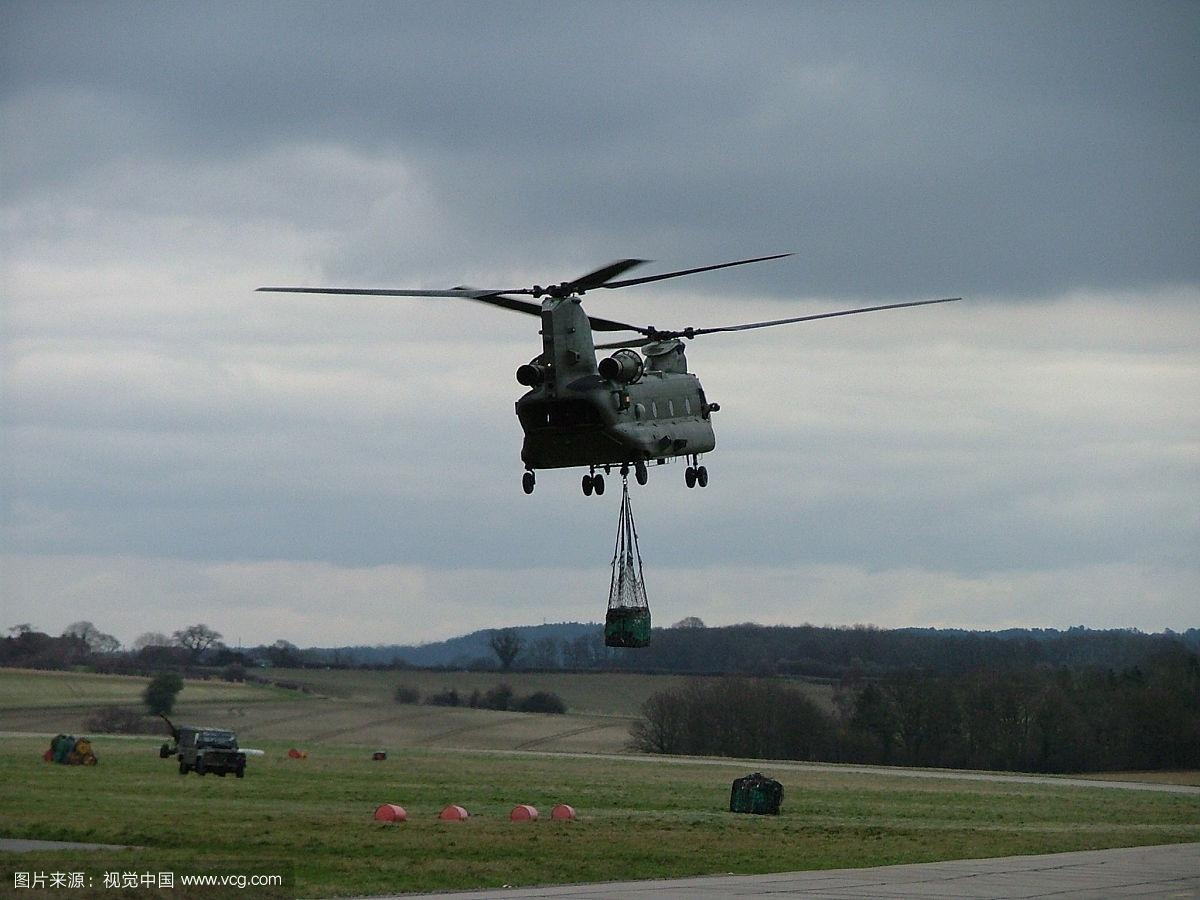airplane: (244, 247, 963, 483)
